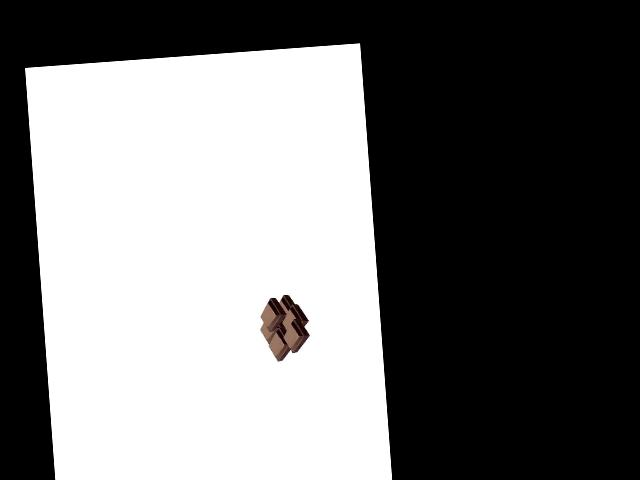chocolate: (255, 291, 309, 361)
